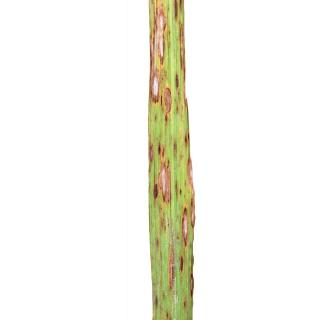Blast: (140, 225, 186, 319), (143, 132, 177, 209), (147, 3, 176, 72), (176, 70, 194, 115), (183, 139, 197, 192), (146, 74, 168, 106), (178, 205, 191, 248), (176, 240, 188, 284), (158, 89, 176, 115), (188, 264, 198, 310), (183, 199, 198, 227)
